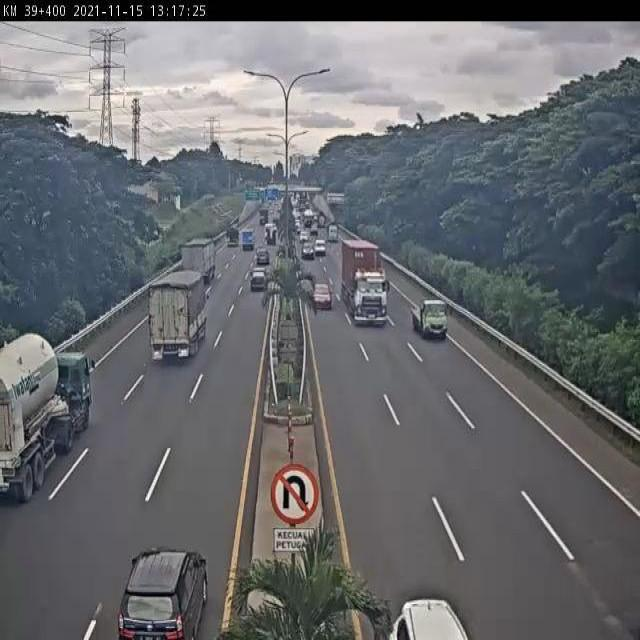big truck: (340, 238, 390, 326)
car: (313, 283, 333, 308), (248, 272, 267, 296), (254, 246, 271, 270)
truck-l-: (0, 334, 93, 502)
truck-m-: (148, 271, 207, 360), (183, 239, 220, 285)
truck-s-: (411, 297, 449, 339)
